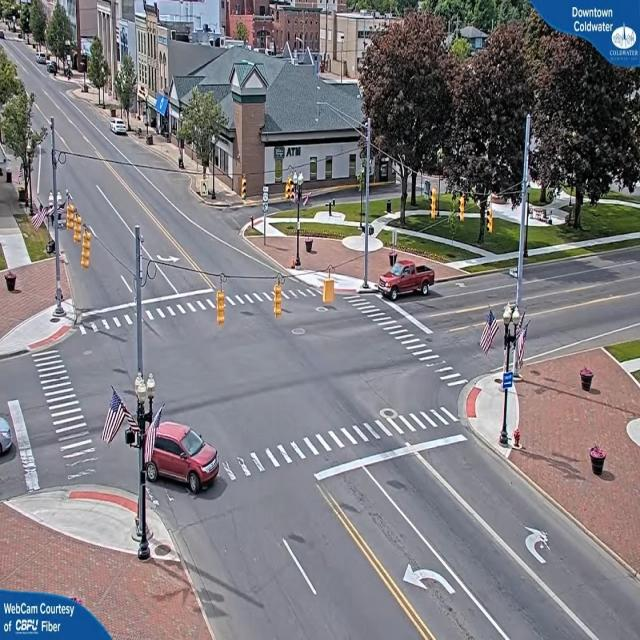car: (148, 423, 221, 494), (378, 262, 436, 300), (111, 120, 129, 136)
